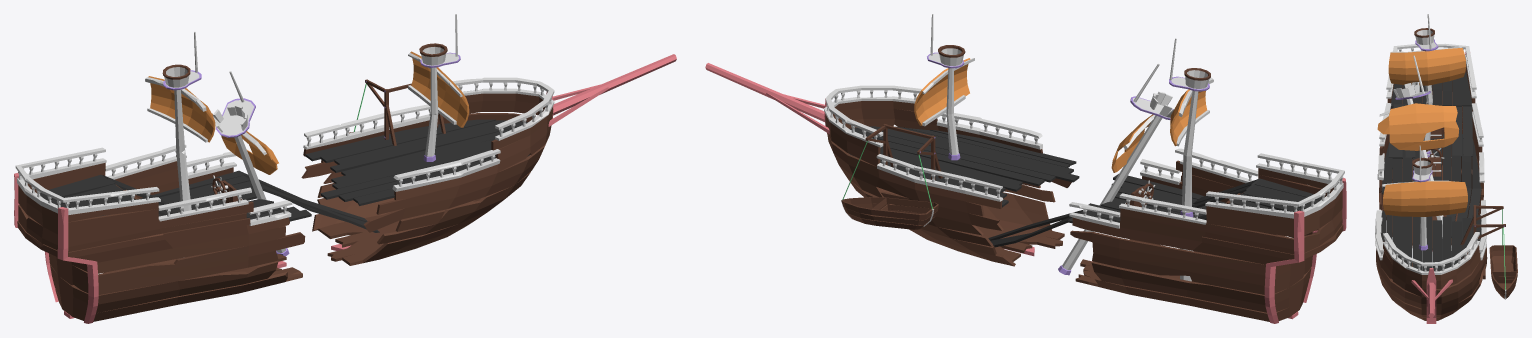
The model's file is Shipwreck.fbx.
3 views of the same model, side by side, from view 1: azimuth 30°, elevation 25°; view 2: azimuth 150°, elevation 25°; view 3: azimuth 270°, elevation 25° (orthographic). The views are drawn at different scales.
Visible parts, largest first — view 1: Shipwreck; view 2: Shipwreck; view 3: Shipwreck.
Boxes of the visible parts, bbox=[...] form: Shipwreck: bbox=[14, 14, 676, 323]; Shipwreck: bbox=[705, 14, 1346, 323]; Shipwreck: bbox=[1375, 14, 1517, 323].
Size of the model in its own units: 43.2 by 16.6 by 10.51.
